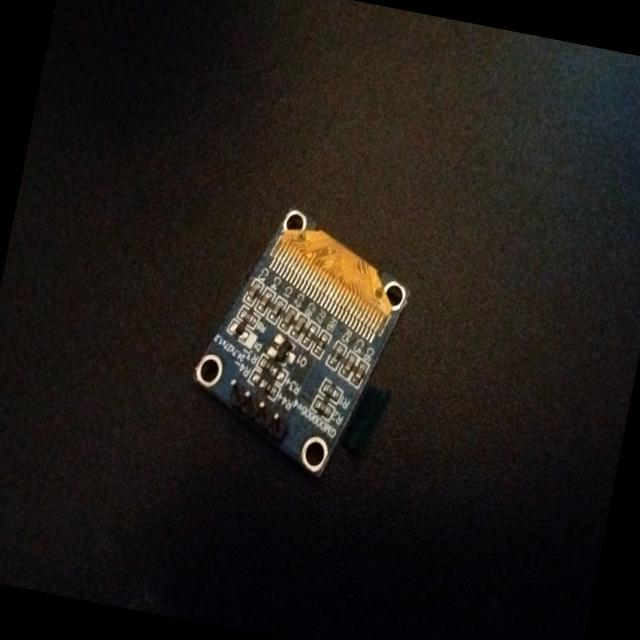oled: (180, 190, 423, 505)
